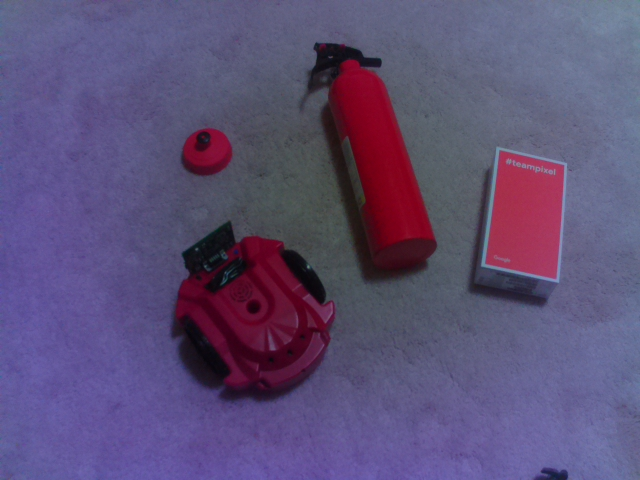chassis: (169, 215, 341, 402)
